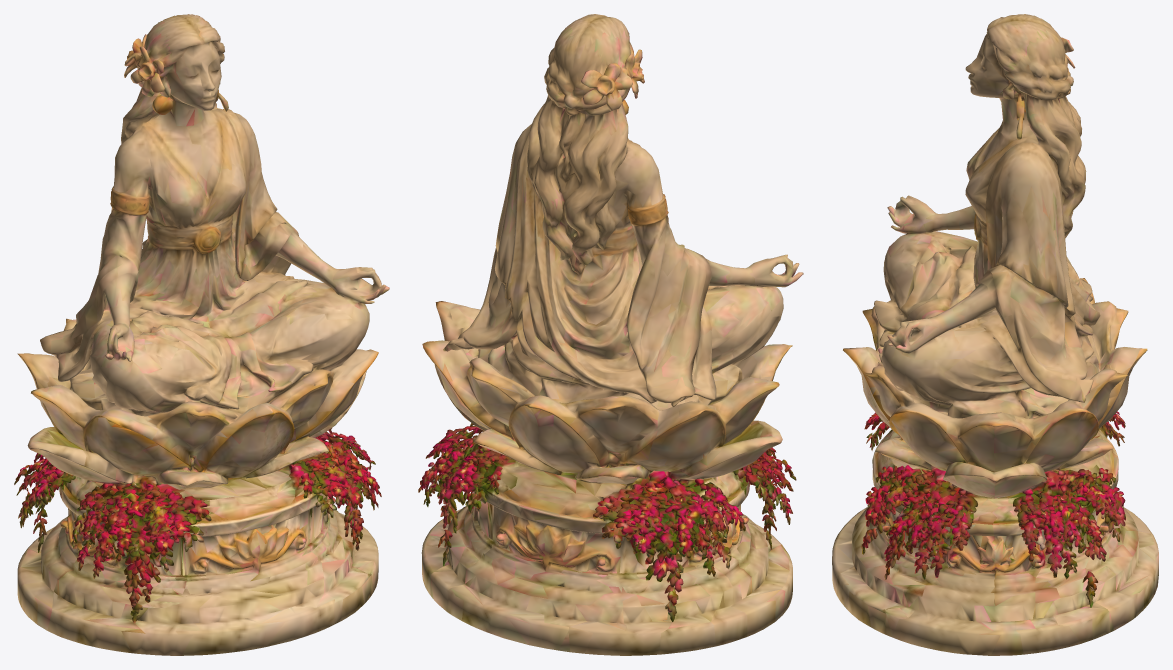
The model's file is esc-loto.glb.
The picture shows the model from 3 angles, left to right: view 1: azimuth 30°, elevation 25°; view 2: azimuth 150°, elevation 25°; view 3: azimuth 270°, elevation 25°; orthographic projection. The views are drawn at different scales.
Parts seen in each view (by area): view 1: Mesh_0; view 2: Mesh_0; view 3: Mesh_0.
Boxes of the visible parts, x1,y1,x2,y2 form: Mesh_0: [14, 14, 389, 655]; Mesh_0: [418, 14, 803, 655]; Mesh_0: [832, 14, 1158, 655].
Bounding box in the file's own units: 1.21 × 1.9 × 1.01.
1 material, 1 textured.
